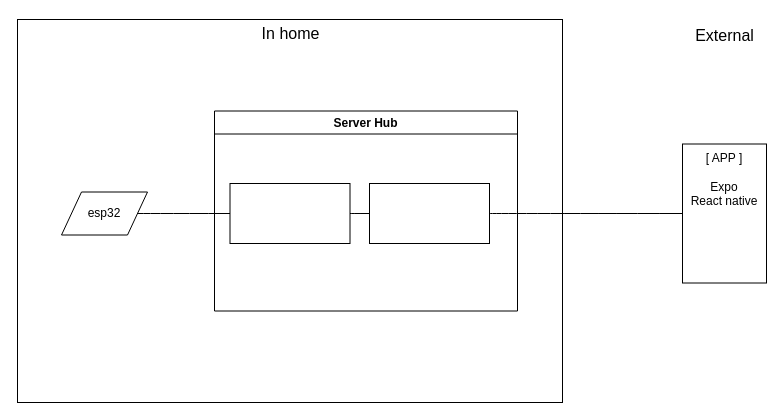
This 784x420 diagram has some shape labels left out. Here are the shapes that lost their labels. From the top down, the centre of each, then its label:
point 289,213: MQTT Broker
point 429,213: Elixir Node Rust
